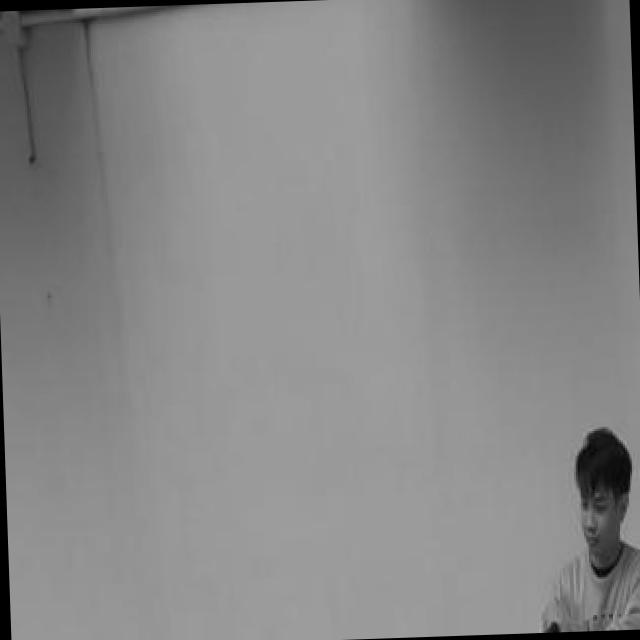Guns: (512, 612, 567, 634)
